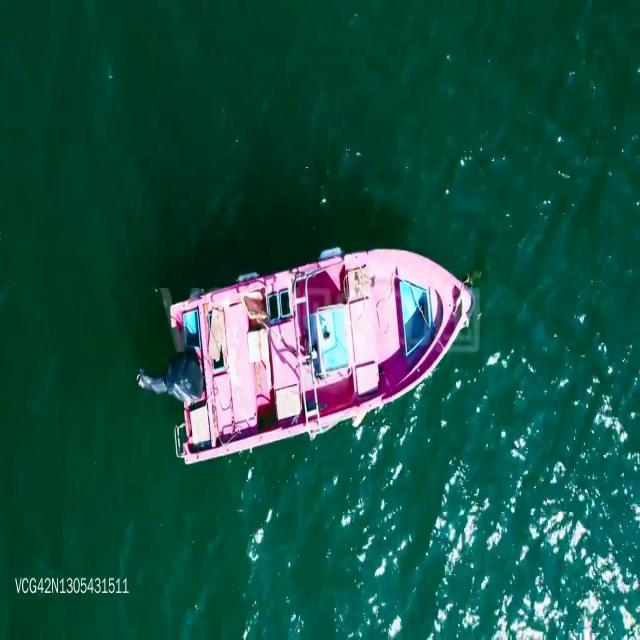houseboat: (168, 242, 471, 464)
